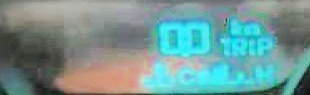-: (178, 50, 187, 56)
0: (182, 18, 210, 53), (157, 19, 182, 54)
X: (252, 63, 273, 84), (253, 35, 272, 55), (175, 65, 194, 85), (230, 35, 245, 56), (225, 15, 240, 35), (240, 21, 260, 35), (219, 35, 229, 55), (247, 36, 253, 55)
